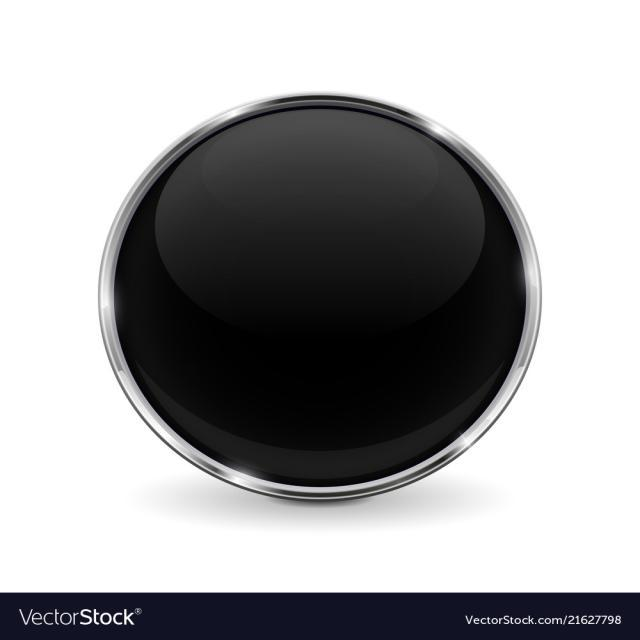hidden camera: (12, 14, 630, 585)
